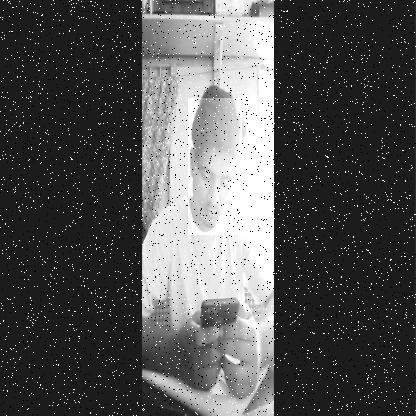Normal: (188, 98, 242, 235)
